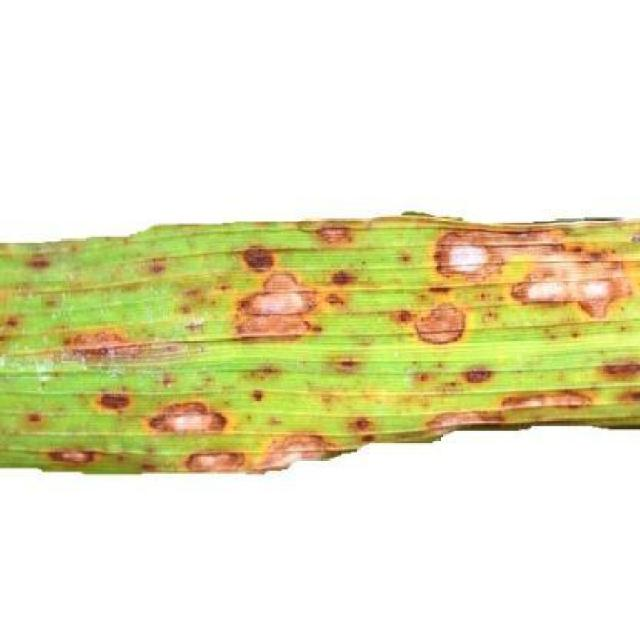Bacterial_Leaf_Blight: (498, 238, 638, 316), (418, 383, 599, 443), (227, 251, 336, 337), (394, 280, 486, 354), (422, 208, 510, 282), (42, 438, 165, 482), (258, 416, 348, 472), (143, 390, 234, 436), (186, 435, 251, 474), (43, 438, 99, 473), (309, 226, 357, 246)
Leaf_Blast: (33, 248, 156, 317), (44, 314, 198, 366), (248, 355, 342, 420), (85, 376, 143, 418), (0, 273, 32, 347), (0, 290, 26, 375), (592, 343, 640, 385), (1, 398, 52, 433), (236, 237, 282, 272), (348, 408, 380, 450), (457, 354, 498, 386), (609, 311, 640, 340), (18, 402, 52, 428), (331, 346, 364, 371), (24, 249, 56, 271)
